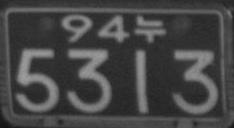1: (122, 49, 163, 114)
3: (171, 48, 219, 115), (66, 47, 113, 114)
4: (97, 14, 130, 43)
5: (15, 47, 60, 112)
9: (61, 12, 94, 43)
누: (134, 14, 166, 44)
